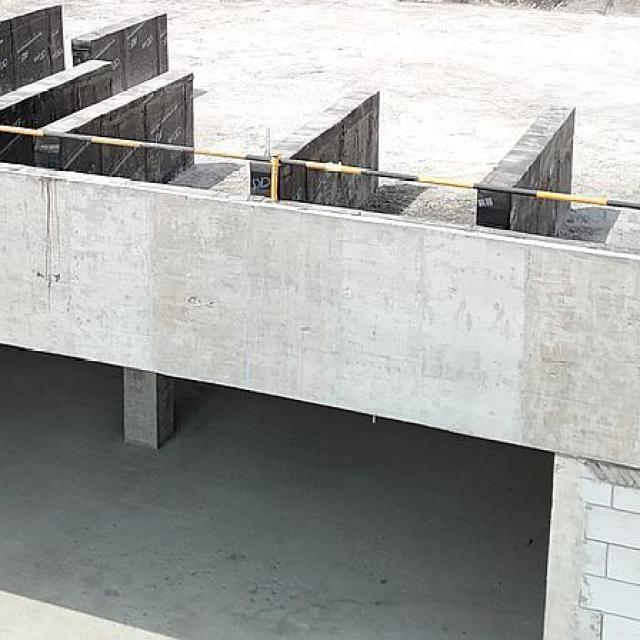Guardrail: (0, 116, 640, 216)
